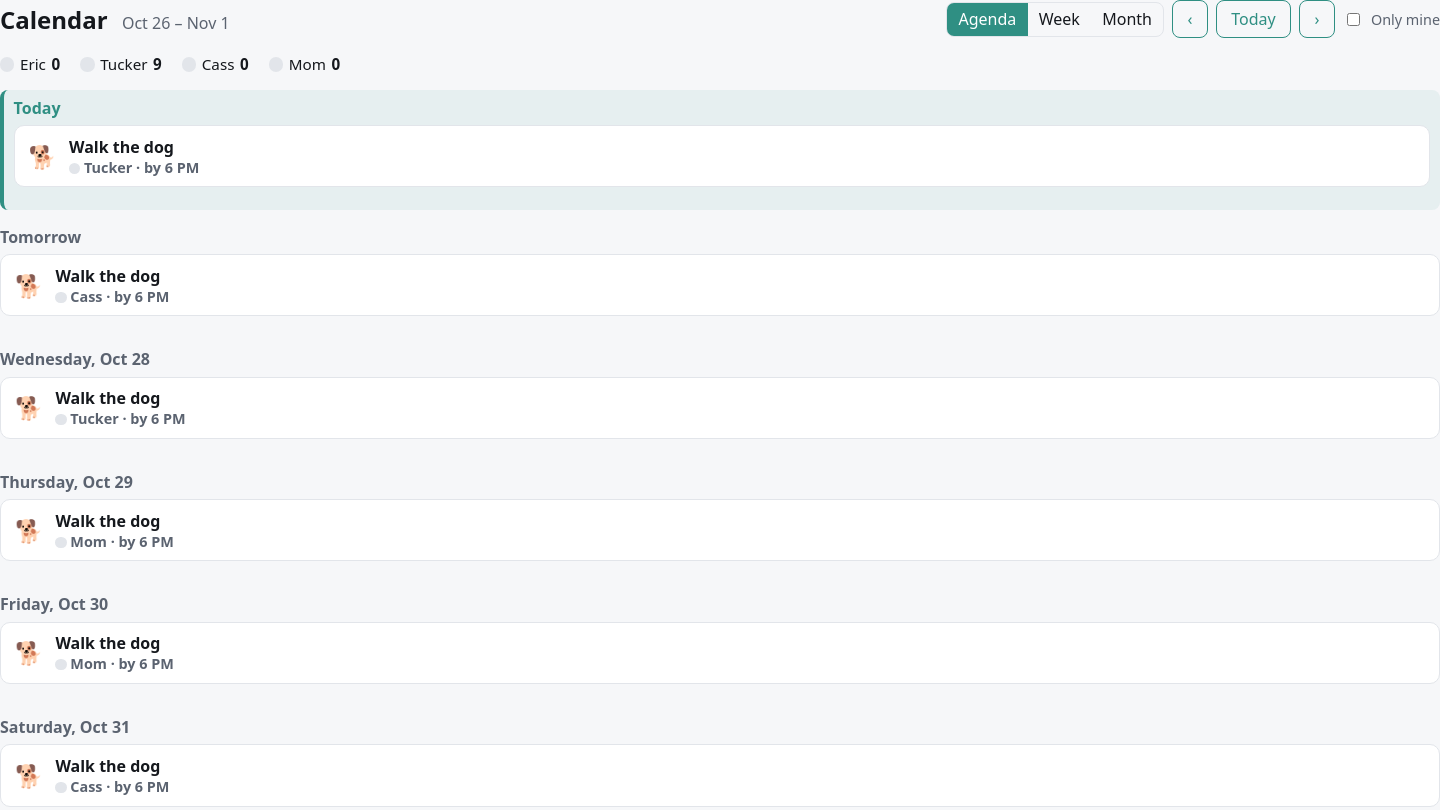
calendar › closes on Escape
The width and height of the screenshot is (1440, 810).
Click the 1st button "🐕 Walk the dog Tucker · by 6 PM" at {"x": 121, "y": 147}, box [14,125,1430,187]
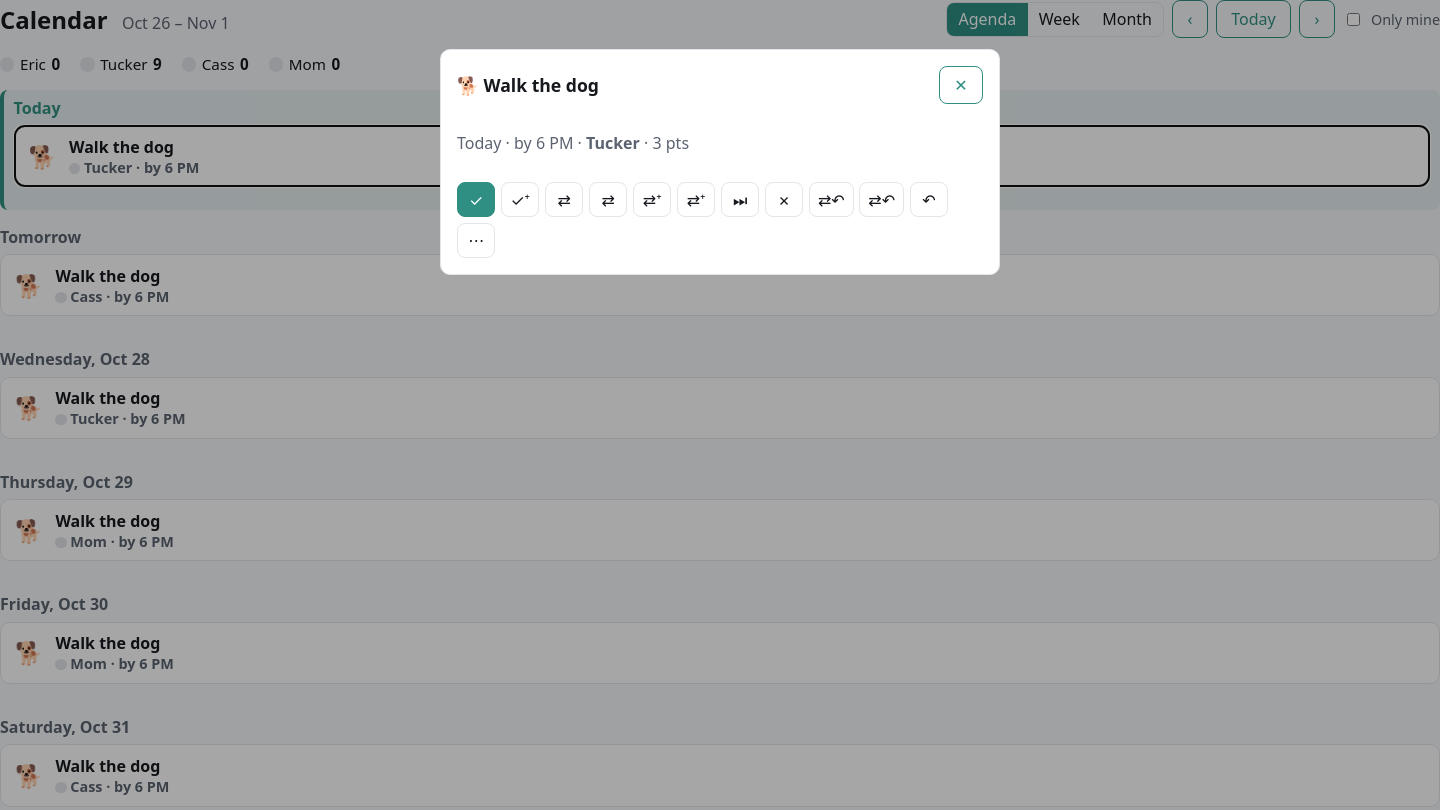
Press Escape
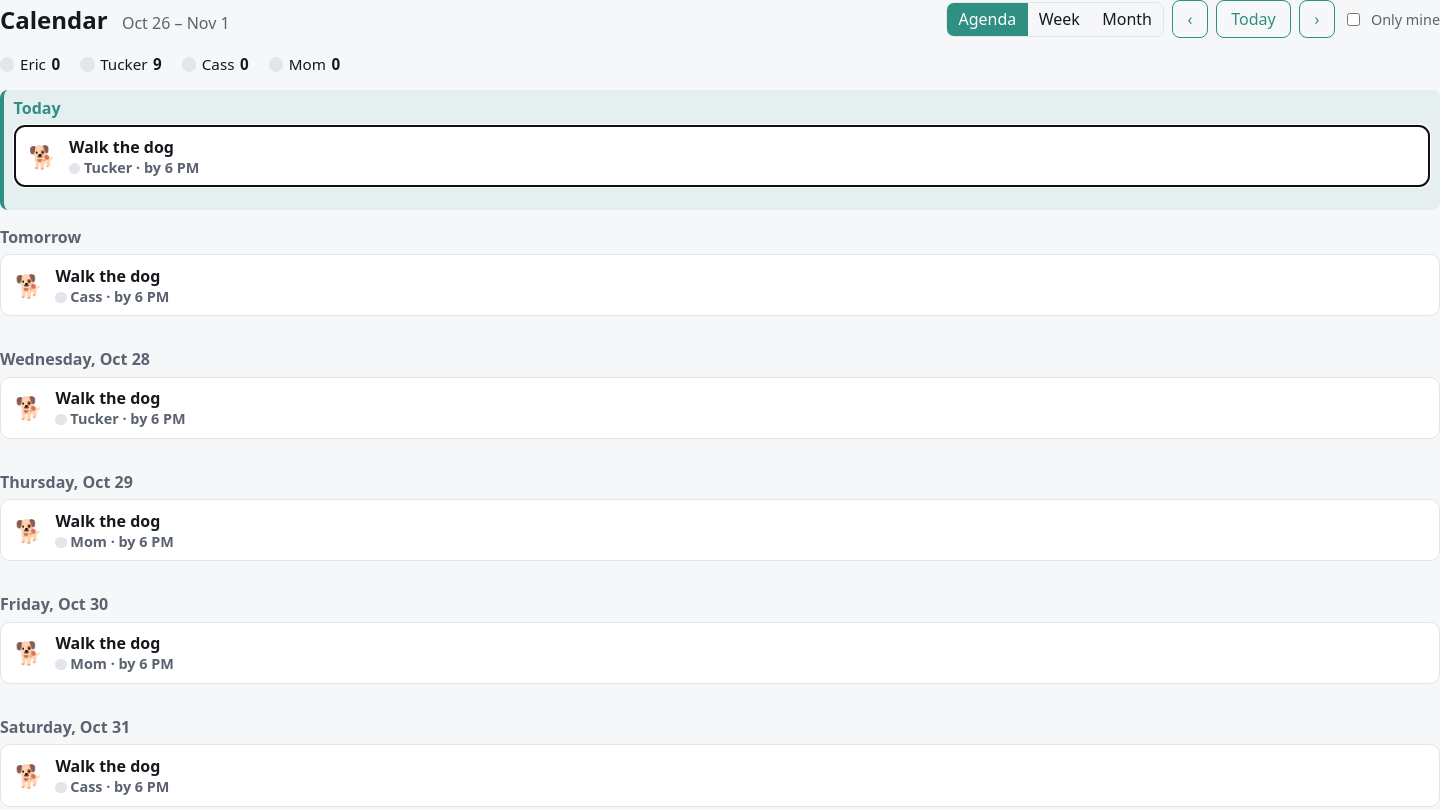
Expected: the dialog is gone
